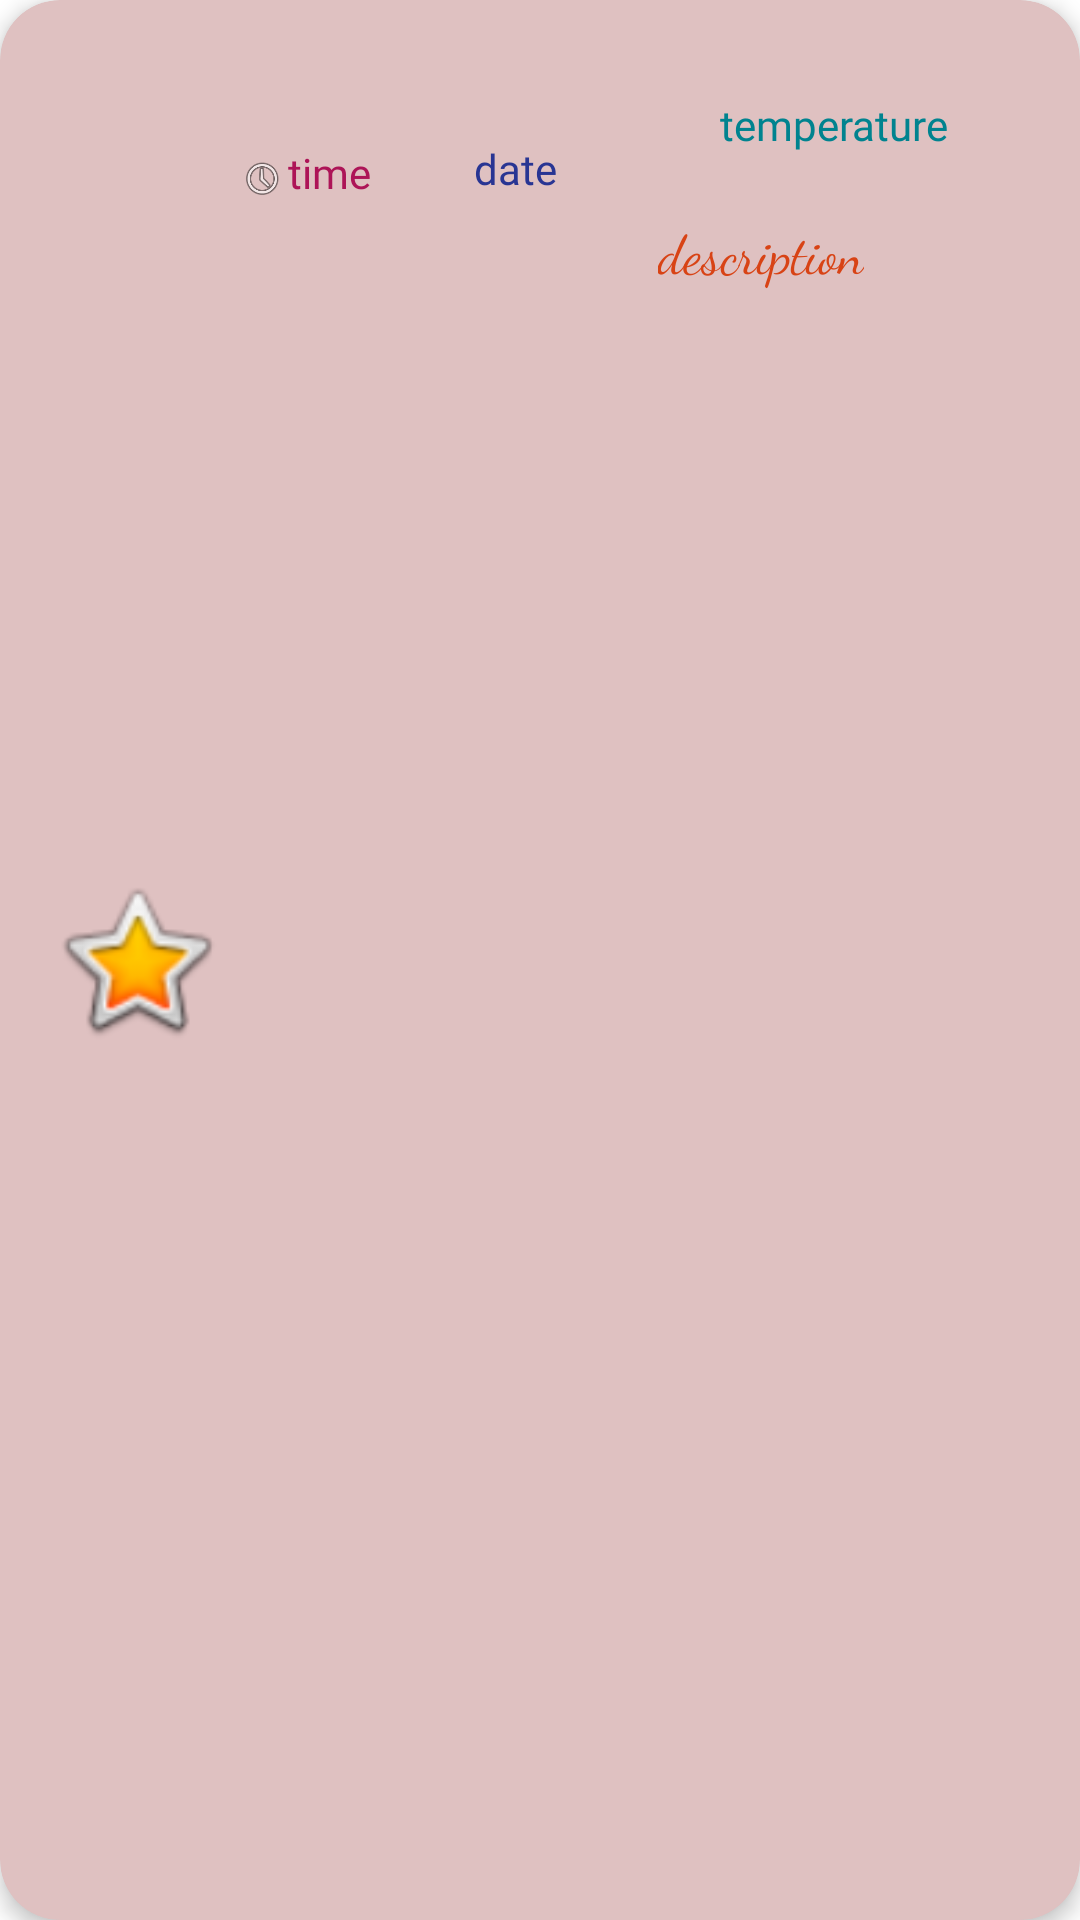

Where icons sit on this 1080x1920 app screen, as (x1, y1, x2, y2):
recent history: (246, 162, 279, 195)
star on: (64, 890, 212, 1034)
